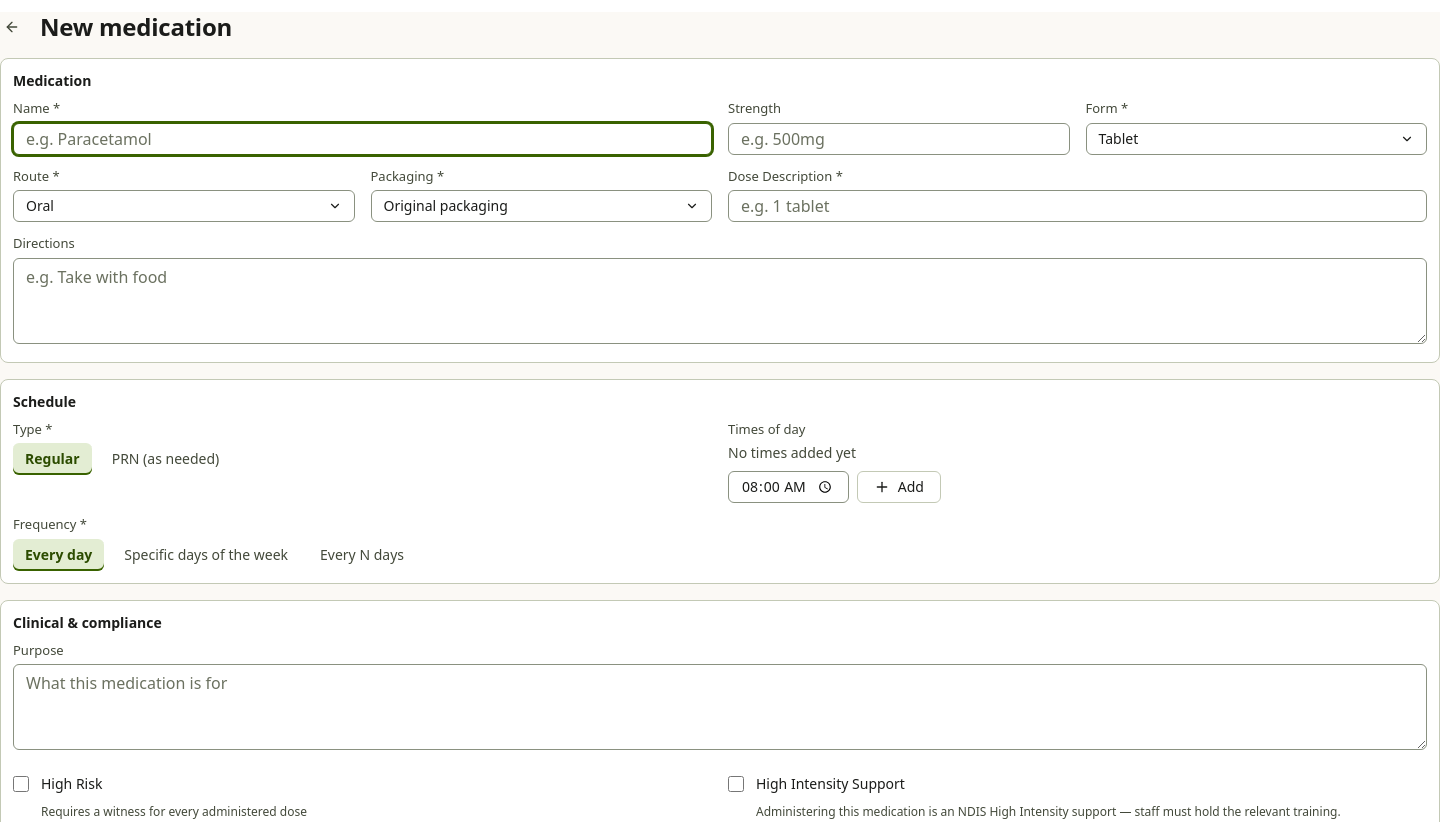
Test case: MedicationFormPage frequency controls › shows the weekday picker only when Specific days of the week is selected
The width and height of the screenshot is (1440, 822).
Click the radio button labelled "Specific days of the week" at [206, 554], box [112,538,300,570]
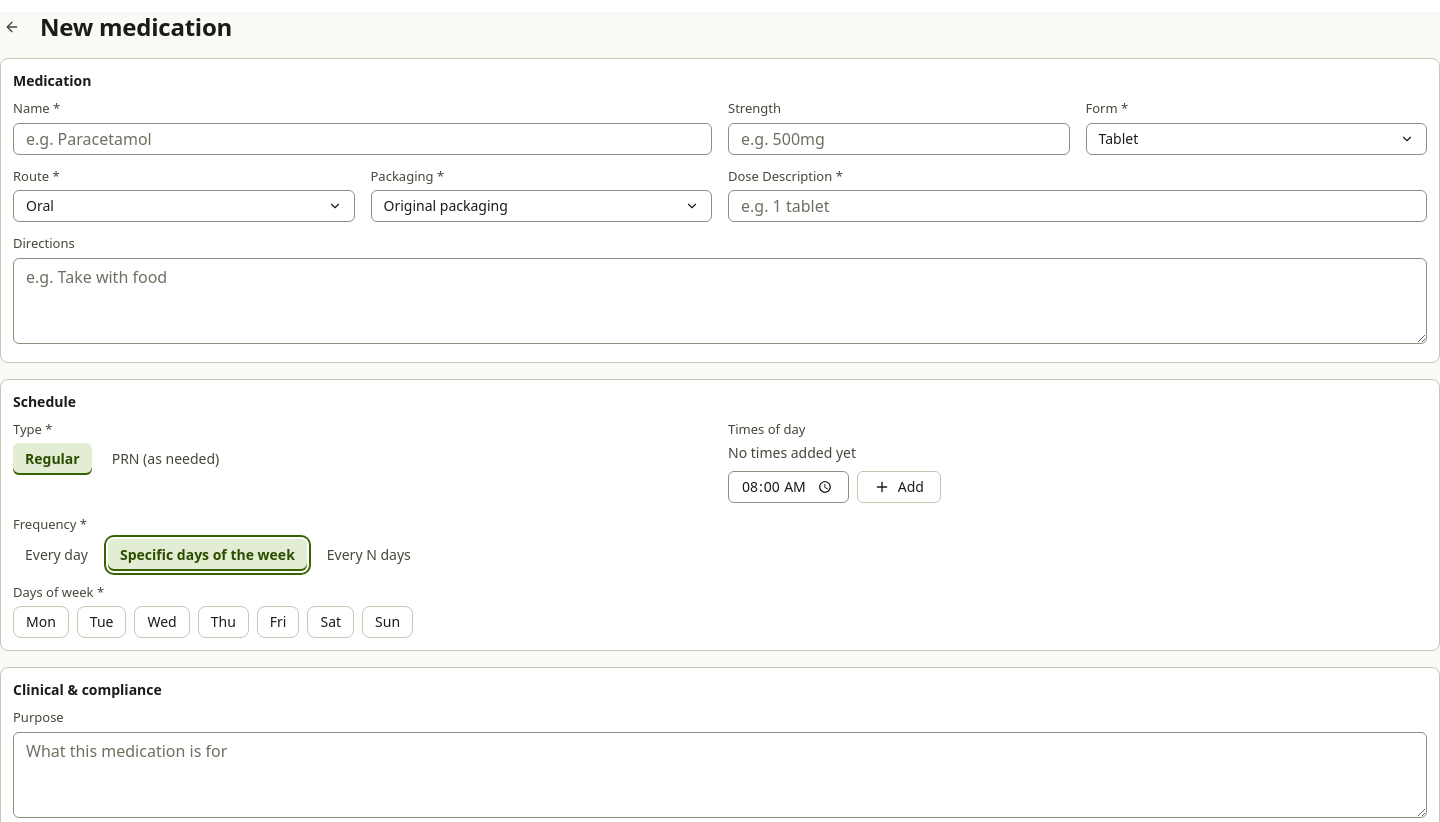
Result: the text "Days of week *" is shown at [13,582,104,600]
Result: the button "Mon" is shown at [13,606,69,638]
